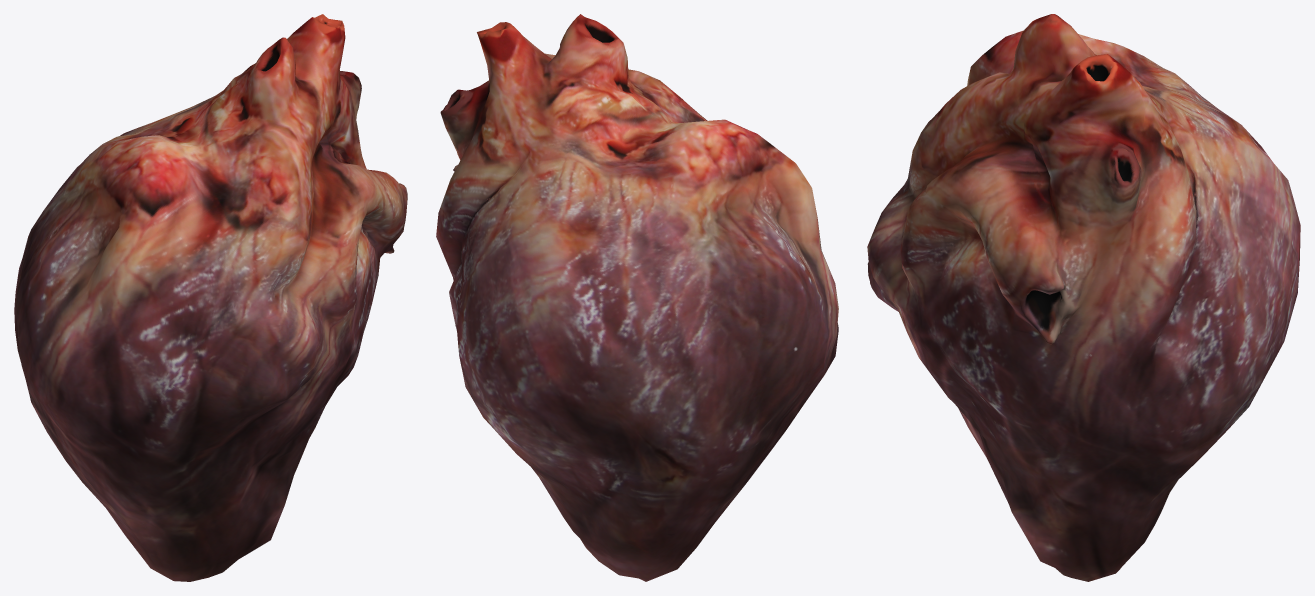
The model's file is heart.OBJ.
3 renders of one model, left to right at view 1: azimuth 30°, elevation 25°; view 2: azimuth 150°, elevation 25°; view 3: azimuth 270°, elevation 25°, orthographic. The views are drawn at different scales.
Visible parts, largest first — view 1: heart; view 2: heart; view 3: heart.
Part boxes in pixels (box(x1,y1,x2,y2)): heart: box(14, 14, 407, 581); heart: box(436, 14, 838, 581); heart: box(867, 14, 1300, 581).
Bounding box in the file's own units: 0.1479 × 0.2028 × 0.1316.
Materials: 1 (1 with a texture image).
